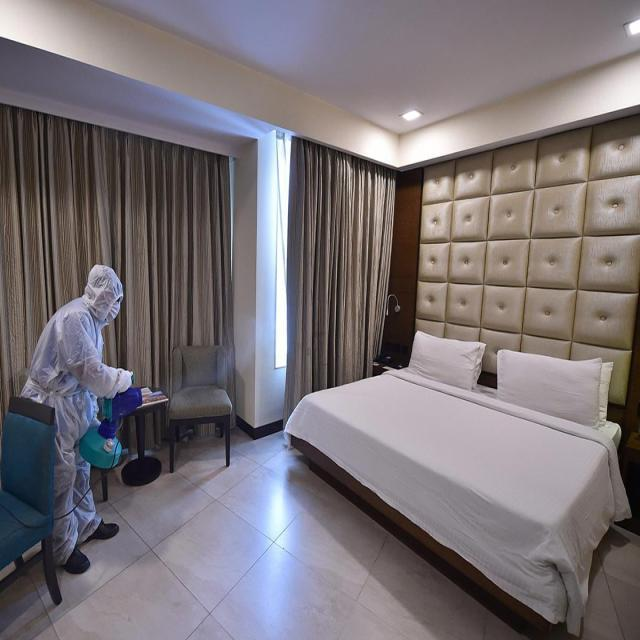bed: (283, 364, 631, 638)
sofa: (168, 343, 232, 473)
